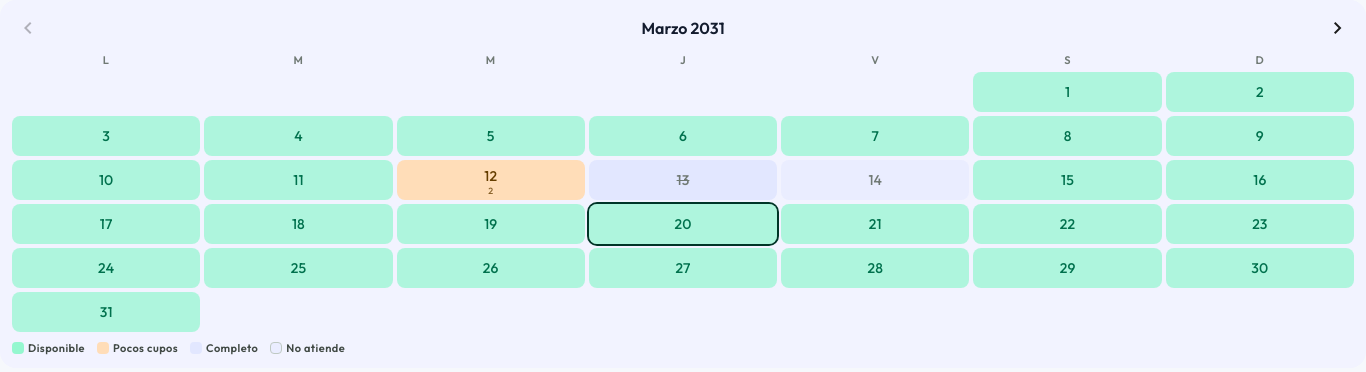
Test: CalendarioDisponibilidad › navega entre meses y no deja ir antes del mes actual
Expected: the button named "Mes anterior" is disabled, [12,12,44,44]
Click the button named "Mes siguiente" at (1338, 28), box [1322,12,1354,44]
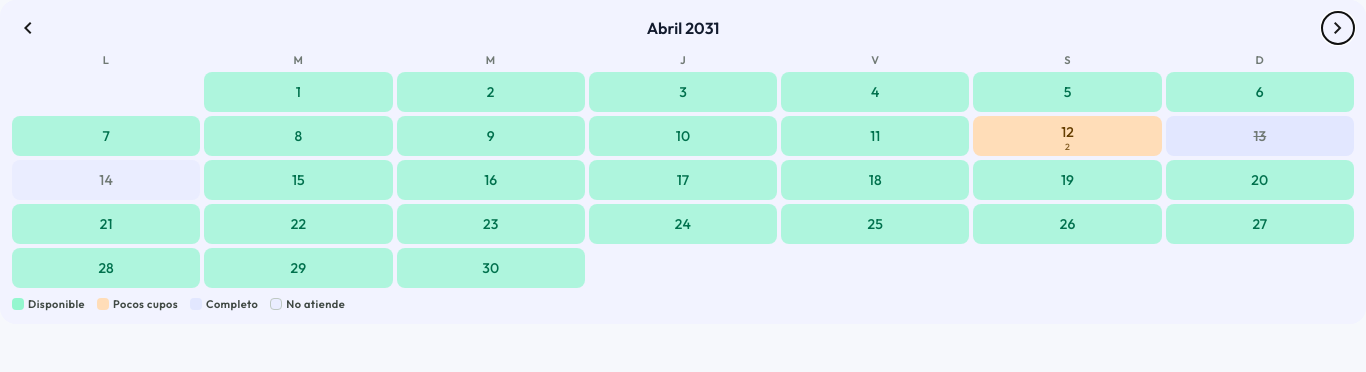
Result: the text "abril 2031" is shown at [647,16,719,40]
Result: the button named "Mes anterior" is enabled at [12,12,44,44]
